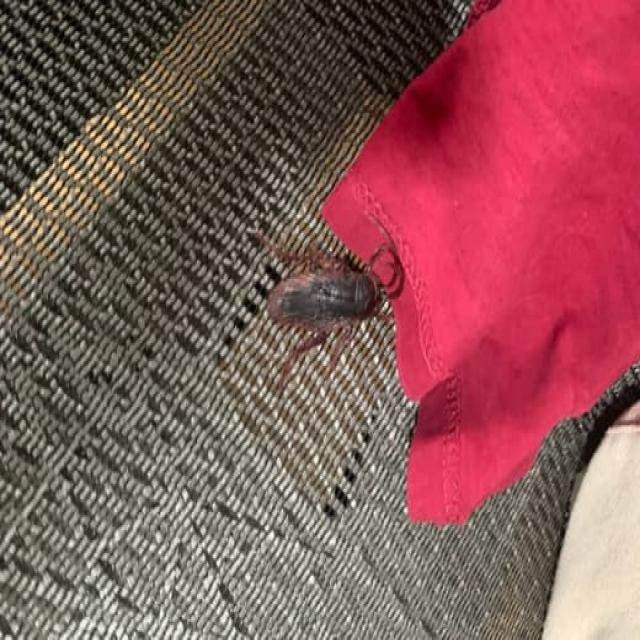Cockroach: (252, 212, 406, 418)
